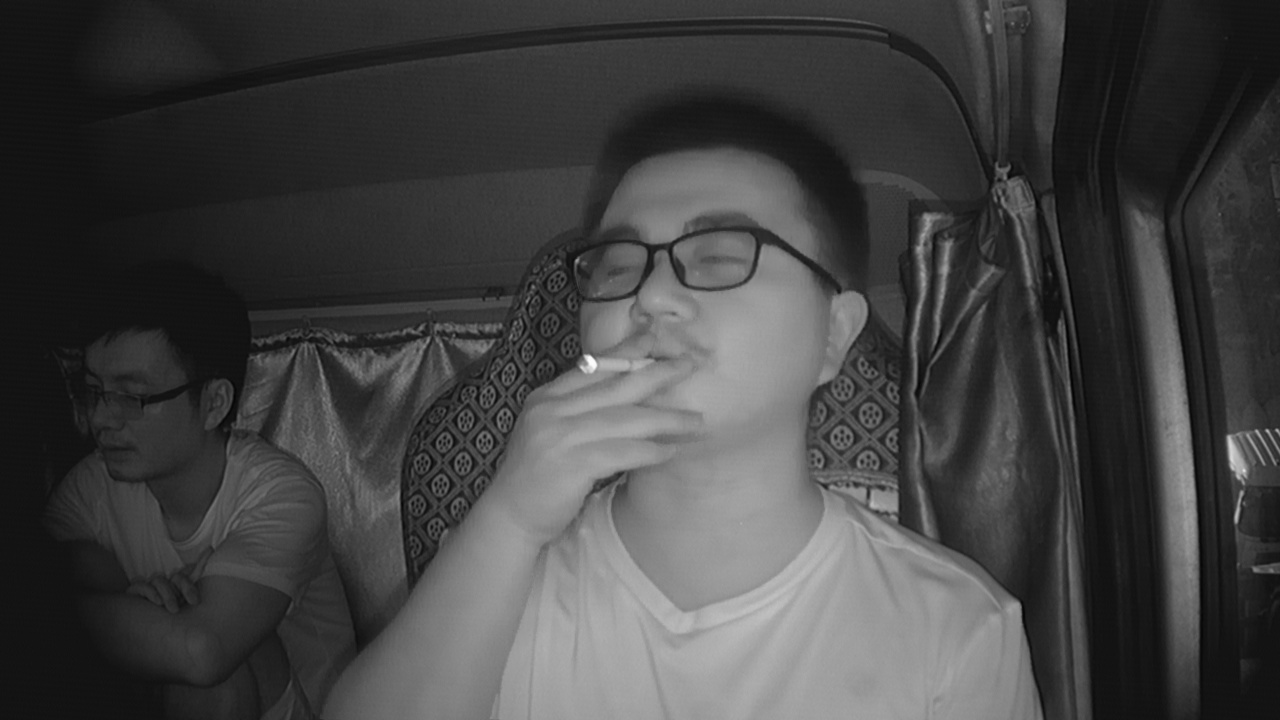hand: (534, 330, 697, 484)
